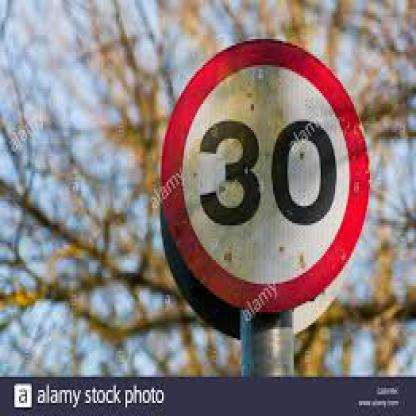Speed Limit 30: (160, 40, 371, 309)
